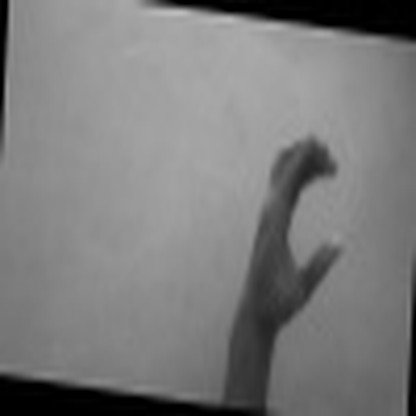c: (242, 131, 352, 334)
